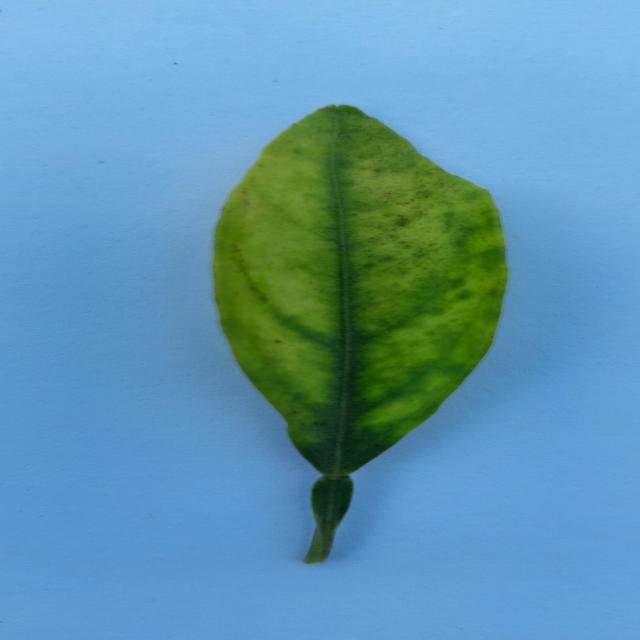greening: (214, 105, 507, 476)
